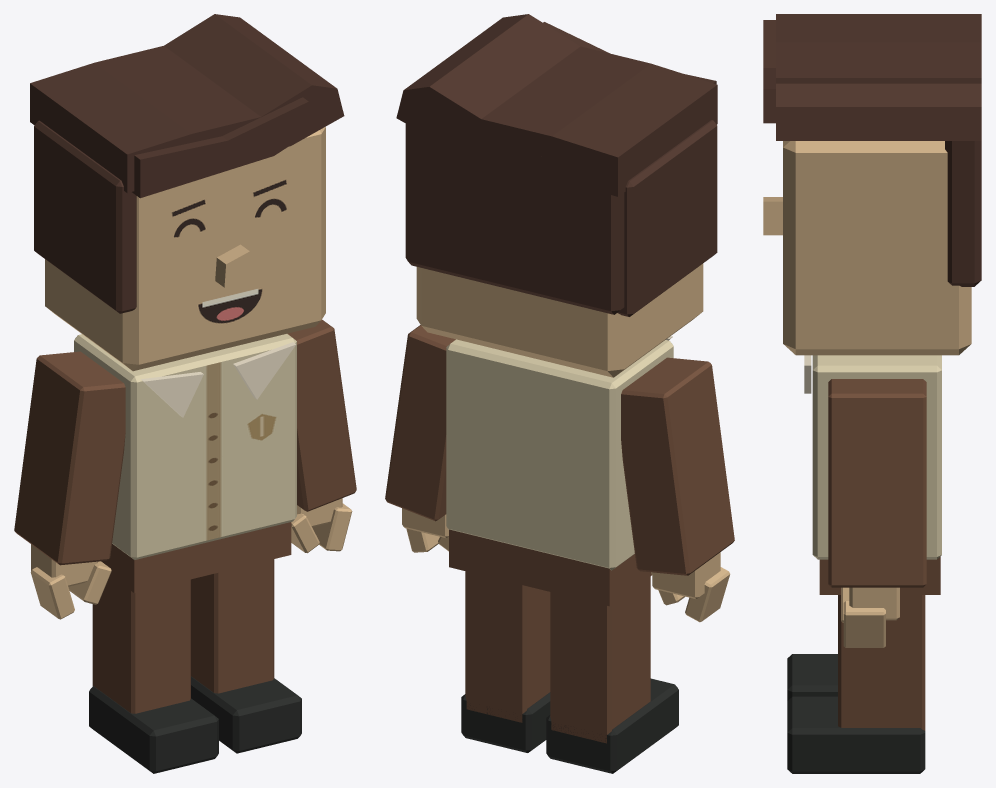
The model's file is sorridente.obj.
3 renders of one model, left to right at view 1: azimuth 30°, elevation 25°; view 2: azimuth 150°, elevation 25°; view 3: azimuth 270°, elevation 25°, orthographic. The views are drawn at different scales.
Visible parts, largest first — view 1: Explorador_HelloYotta; view 2: Explorador_HelloYotta; view 3: Explorador_HelloYotta.
Part boxes in pixels (bbox=[...]): Explorador_HelloYotta: bbox=[14, 14, 356, 773]; Explorador_HelloYotta: bbox=[385, 14, 734, 773]; Explorador_HelloYotta: bbox=[763, 14, 981, 773].
Size of the model in its own units: 1.31 by 2.72 by 0.775.
Materials: 1 (1 with a texture image).
